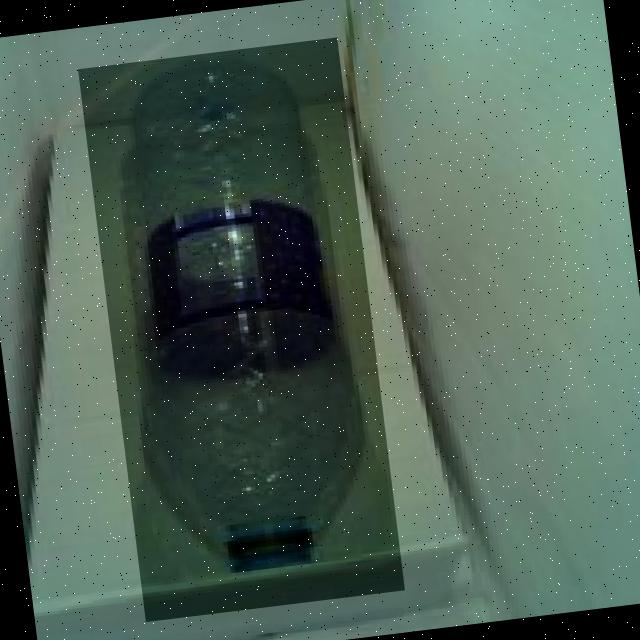bottle: (78, 36, 404, 622)
label: (120, 198, 337, 346)
